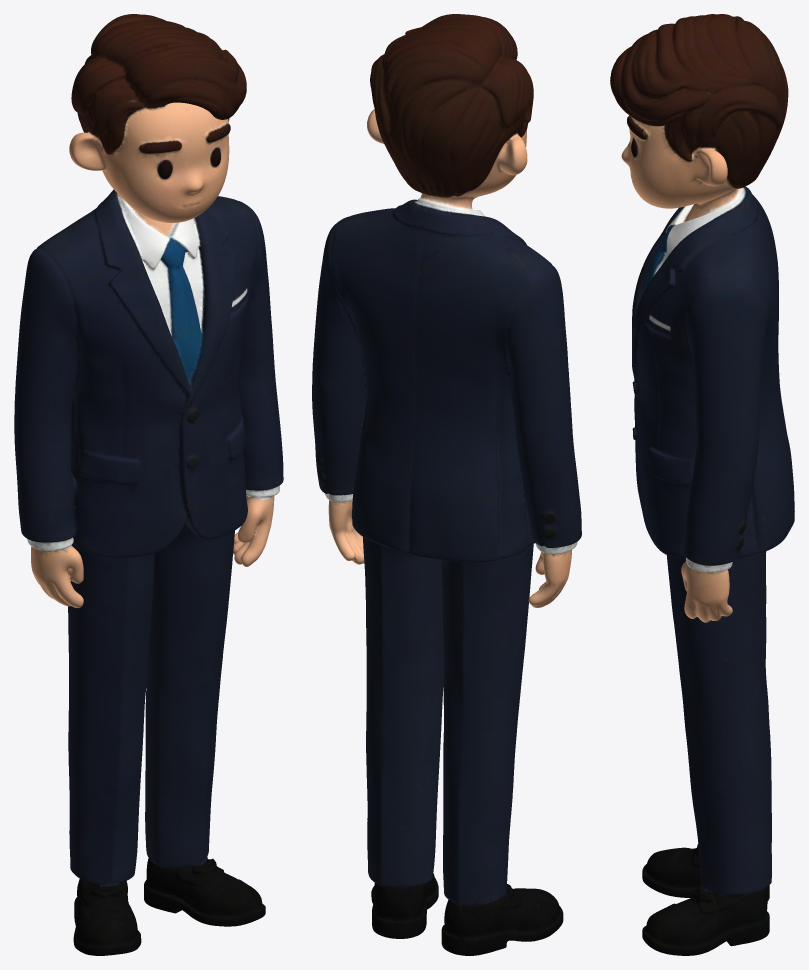
File: human.glb
3 views of the same model, side by side, from view 1: azimuth 30°, elevation 25°; view 2: azimuth 150°, elevation 25°; view 3: azimuth 270°, elevation 25° (orthographic).
Size of the model in its own units: 0.5678 by 1.9 by 0.3575.
Materials: 1 (1 with a texture image).
